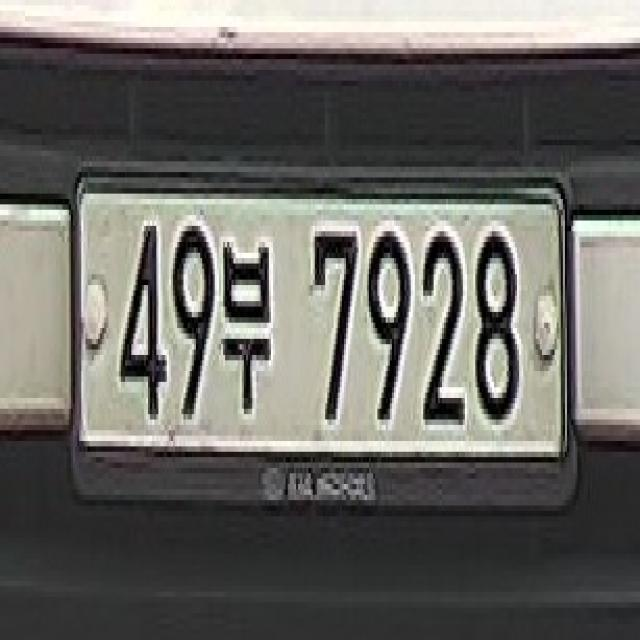2: (424, 218, 467, 452)
4: (116, 202, 168, 430)
7: (310, 216, 360, 442)
8: (474, 218, 524, 438)
9: (170, 210, 220, 422), (366, 220, 414, 437)
bu: (220, 210, 280, 430)
license_plate: (62, 155, 574, 516)
